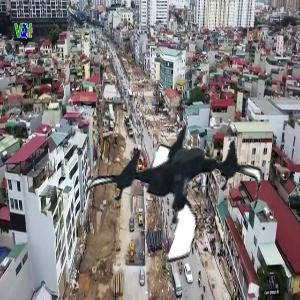drone: (93, 104, 261, 272)
